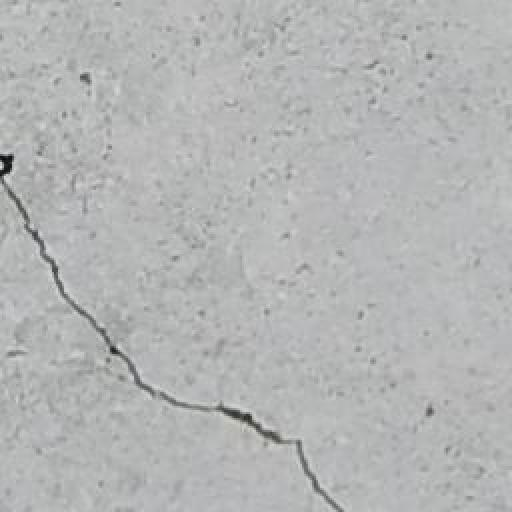spalling: (2, 162, 362, 508)
